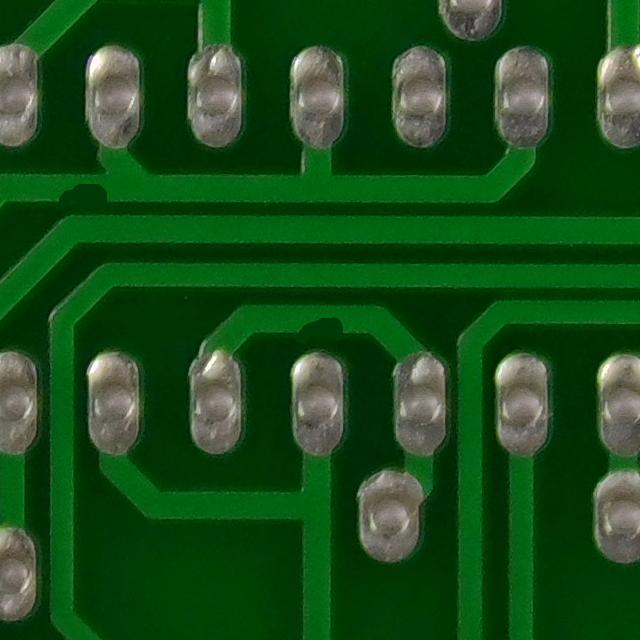mouse_bite: (286, 294, 355, 346)
